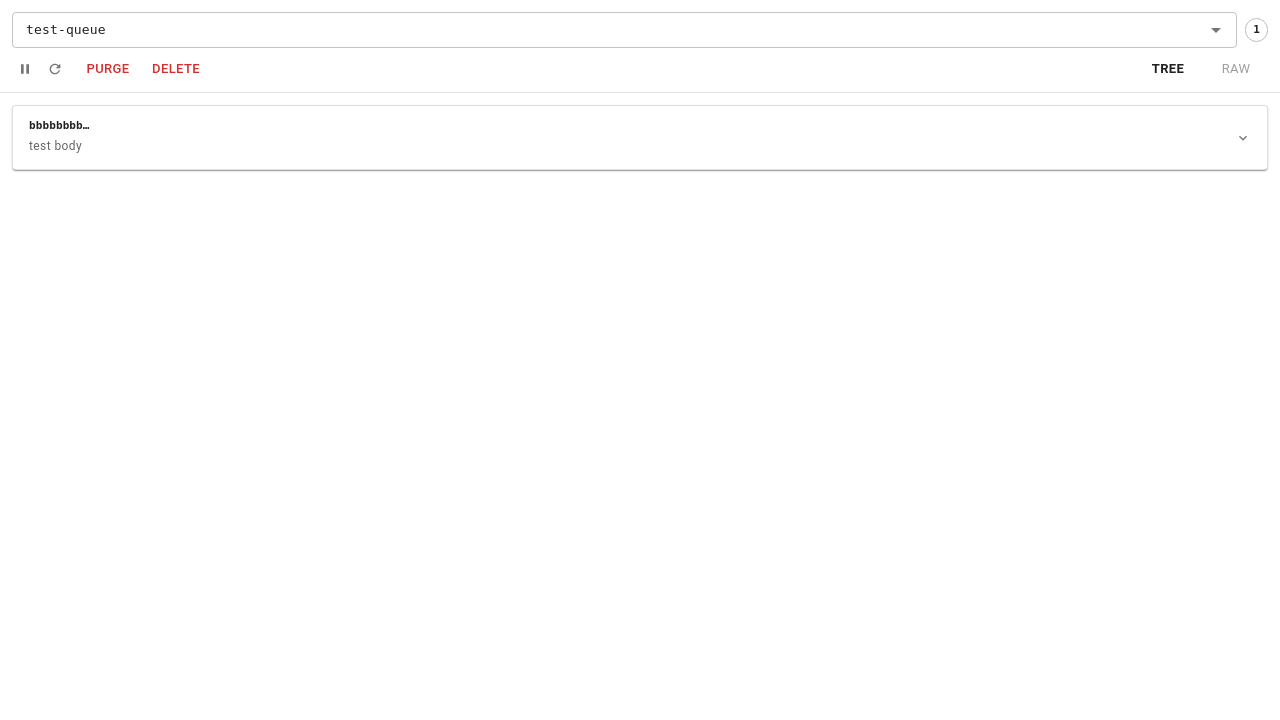
it: <QueueColumn /> › shows delete message confirmation dialog when delete icon is clicked
Click the button "bbbbbbbb… test body": (56, 126) [13,106,1267,169]
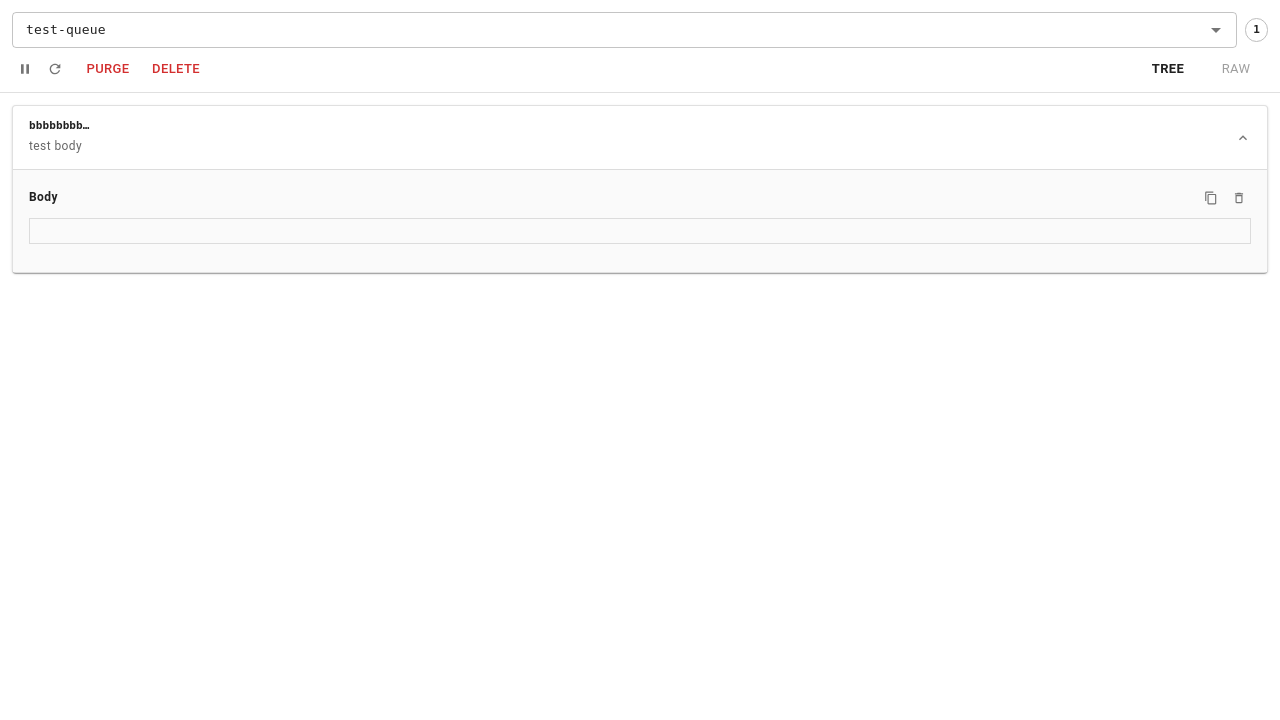
Now the text "Body" is shown, box [29,188,58,208]
Now the button named "Delete message" is shown
Click the button named "Delete message": (1239, 198) [1227,186,1251,210]
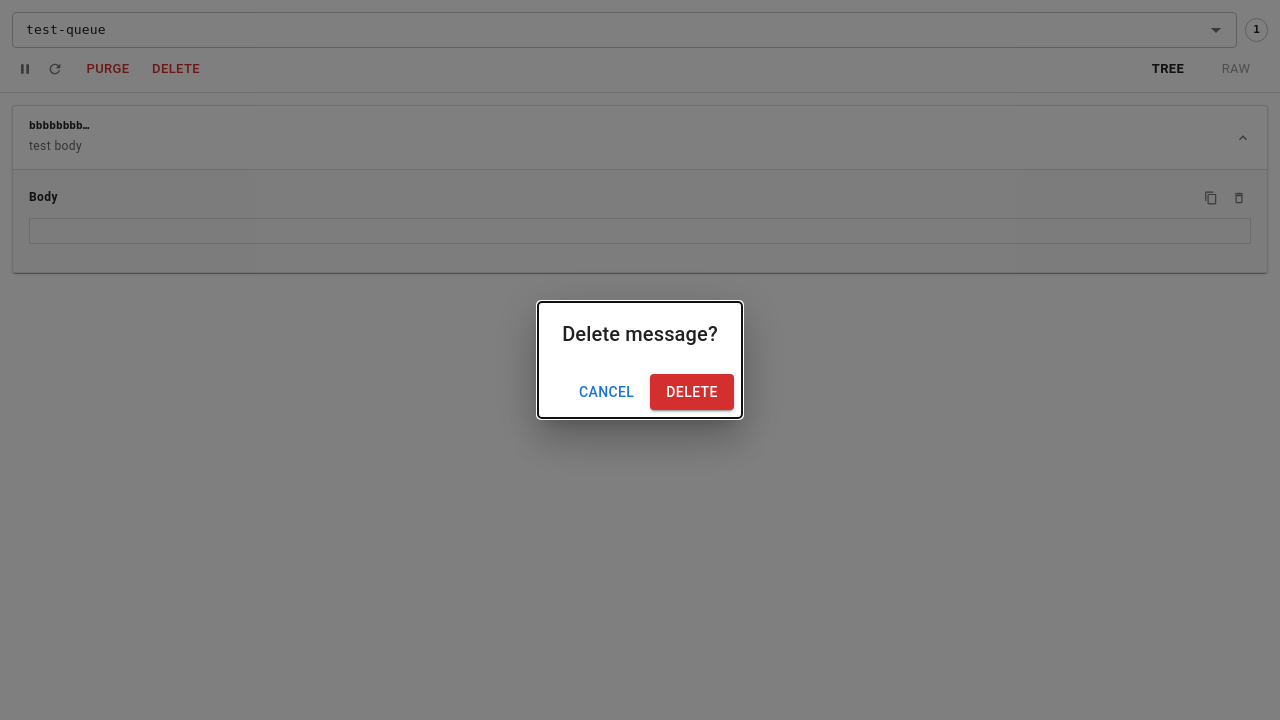
Now the heading "Delete message?" is shown, box [562,322,718,346]
Now the button "Delete" is shown, box [650,374,734,410]
Now the button "Cancel" is shown, box [571,374,642,410]
